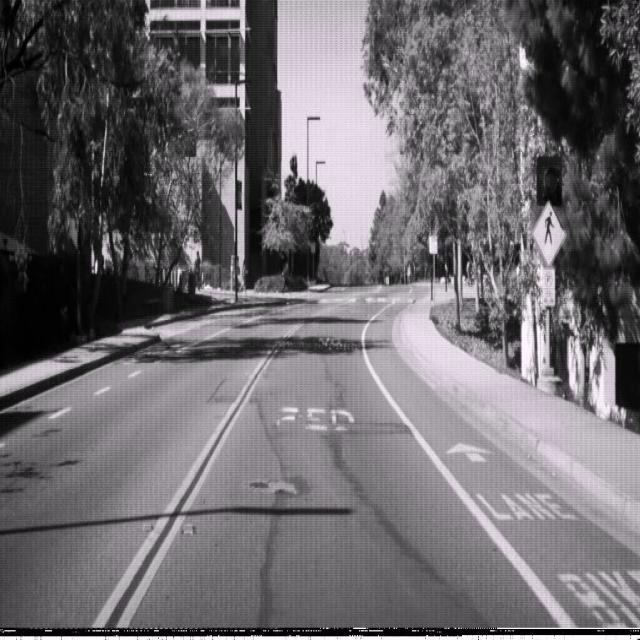pedestrianCrossing: (531, 199, 567, 267)
